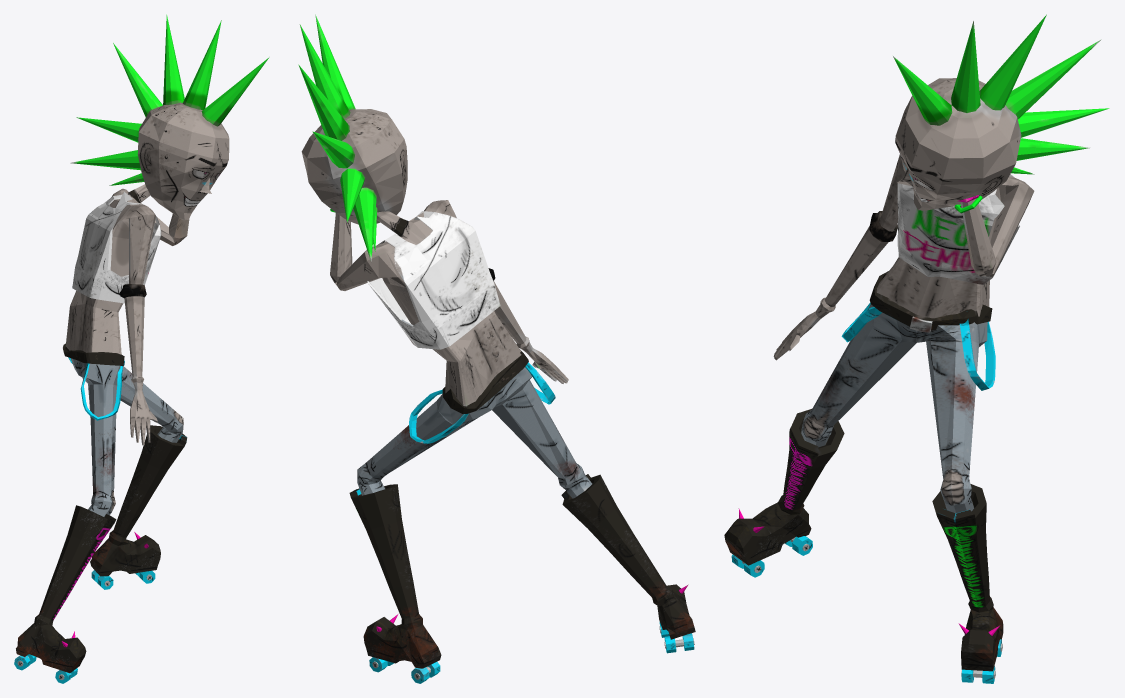
The model's file is punkAnimation_000012.obj.
3 views of the same model, side by side, from view 1: azimuth 30°, elevation 25°; view 2: azimuth 150°, elevation 25°; view 3: azimuth 270°, elevation 25° (orthographic). The views are drawn at different scales.
Visible parts, largest first — view 1: Cube.004_Cube.003; view 2: Cube.004_Cube.003; view 3: Cube.004_Cube.003.
Boxes of the visible parts, x1,y1,x2,y2 form: Cube.004_Cube.003: (14, 14, 269, 683); Cube.004_Cube.003: (298, 14, 695, 683); Cube.004_Cube.003: (724, 14, 1109, 683).
Bounding box in the file's own units: 3.72 × 6.58 × 3.25.
